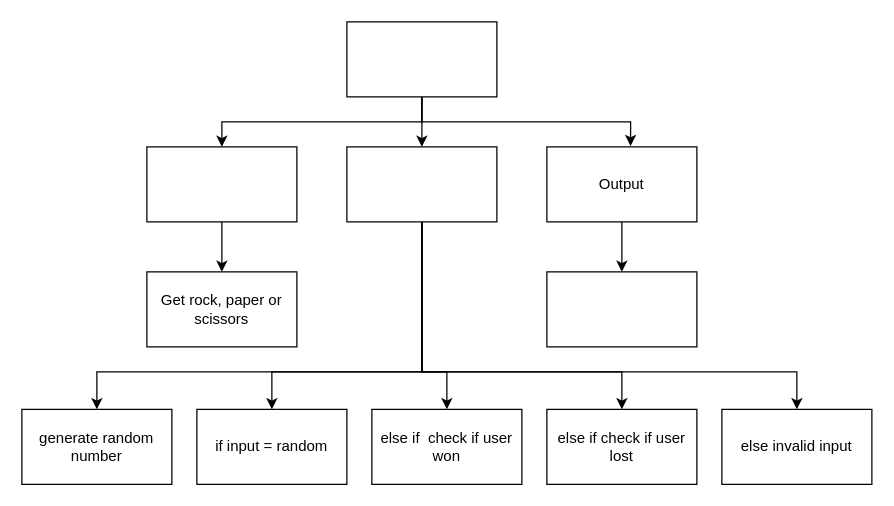
This 894x506 diagram has some shape labels left out. Here are the shapes that lost their labels. From the top down, the box of each, then its label:
(346, 21, 497, 97): rock paper scissors
(146, 146, 297, 222): Input
(346, 146, 497, 222): Process
(546, 271, 697, 347): Output if user won, lost, ties, or invalid input
